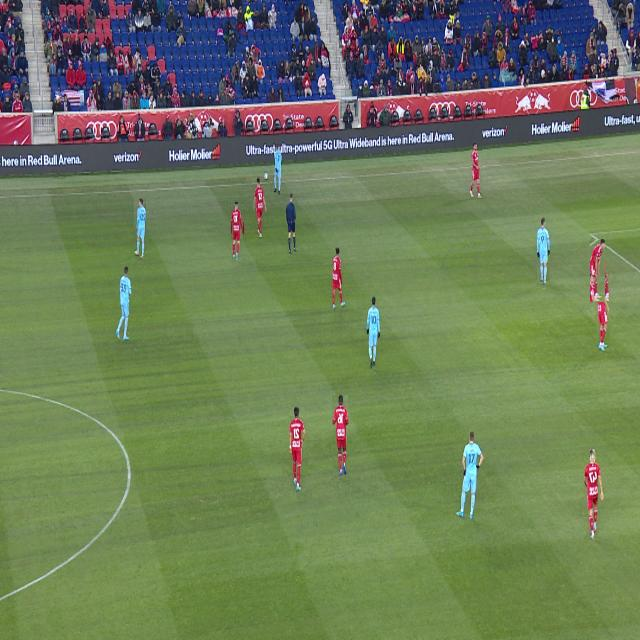player: (456, 431, 484, 520), (584, 450, 604, 540), (289, 407, 306, 491), (333, 396, 348, 475), (116, 267, 132, 341), (590, 239, 605, 302), (597, 274, 609, 351), (367, 297, 380, 366), (537, 218, 550, 284), (253, 179, 267, 238), (332, 248, 345, 309), (470, 143, 482, 199), (135, 198, 146, 259), (232, 202, 243, 262), (274, 144, 282, 193)
referee: (286, 194, 297, 253)
